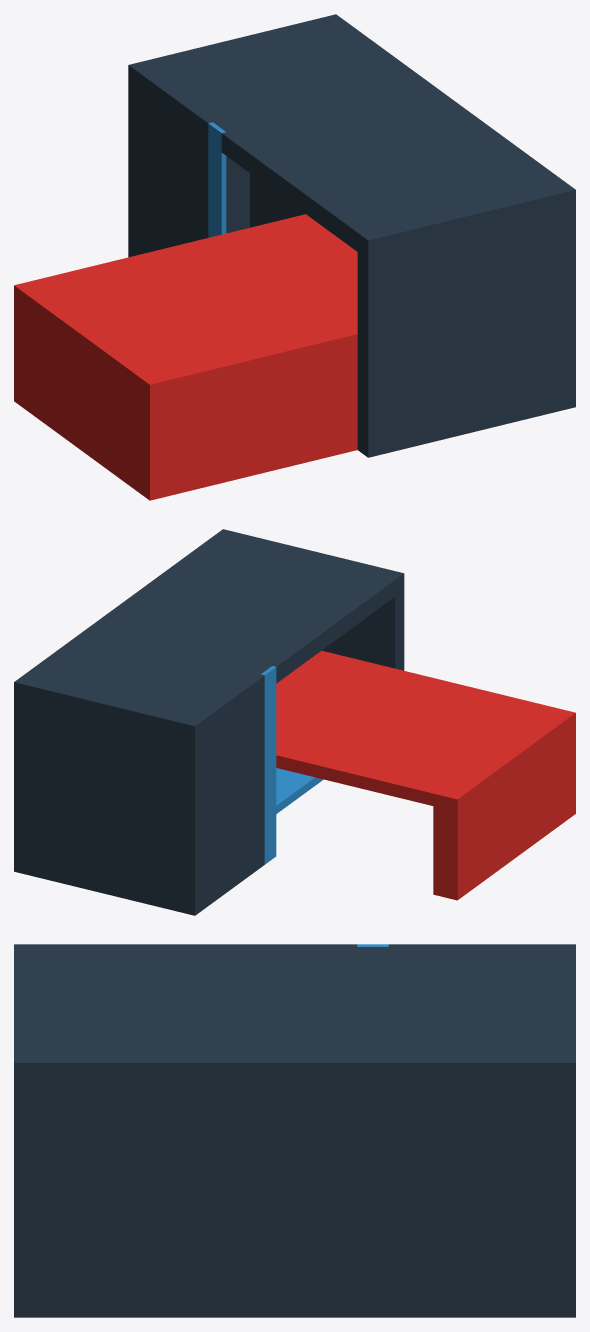
Rendered from home1less.obj.
The picture shows the model from 3 angles, top to bottom: view 1: azimuth 30°, elevation 25°; view 2: azimuth 150°, elevation 25°; view 3: azimuth 270°, elevation 25°; orthographic projection. The views are drawn at different scales.
Bounding box in the file's own units: 90 × 45 × 90.
1 material, 1 textured.
